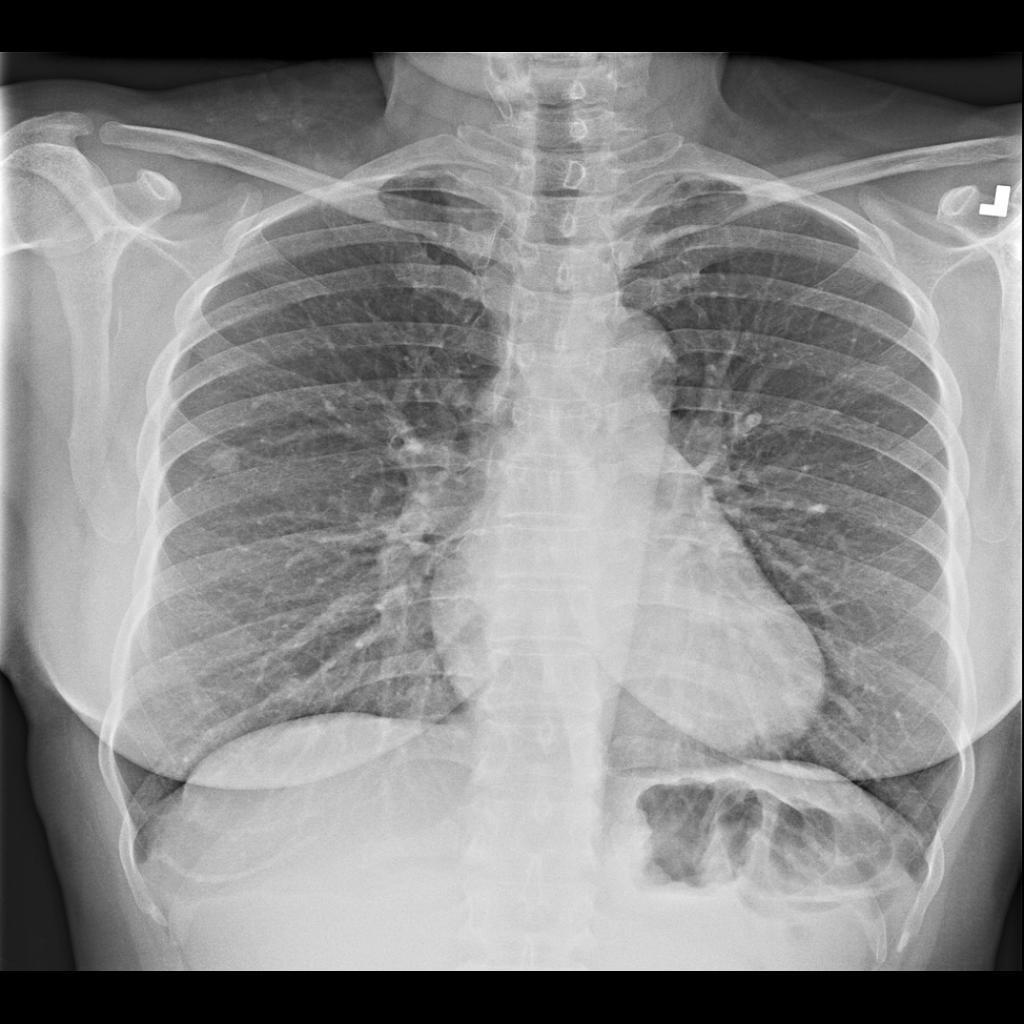Nodule: (203, 436, 248, 477)
